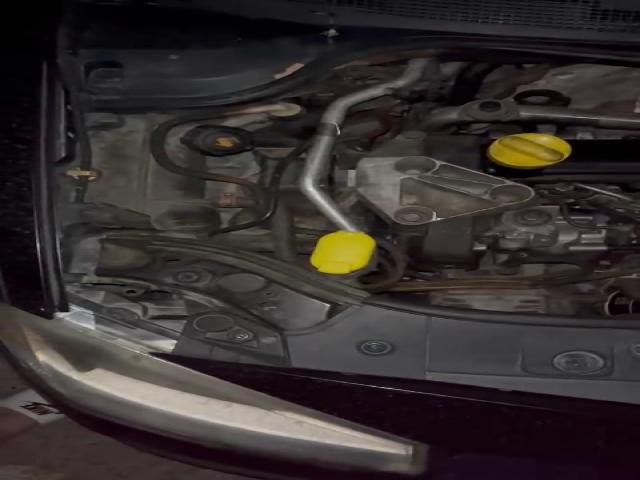antifreeze_tank: (86, 114, 221, 237), (163, 121, 252, 171)
